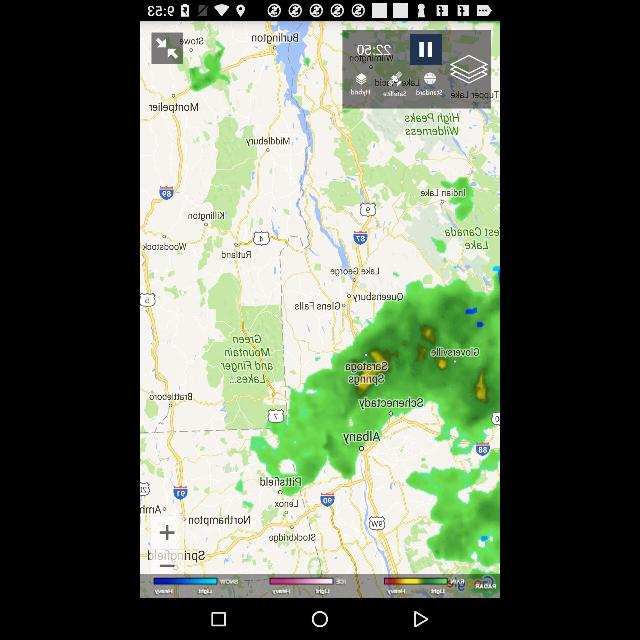icon: (412, 613, 428, 627), (312, 612, 328, 626), (212, 612, 226, 626)
map: (140, 21, 500, 599)
panel: (140, 600, 500, 640)
uppertaskbar: (140, 0, 500, 20)
